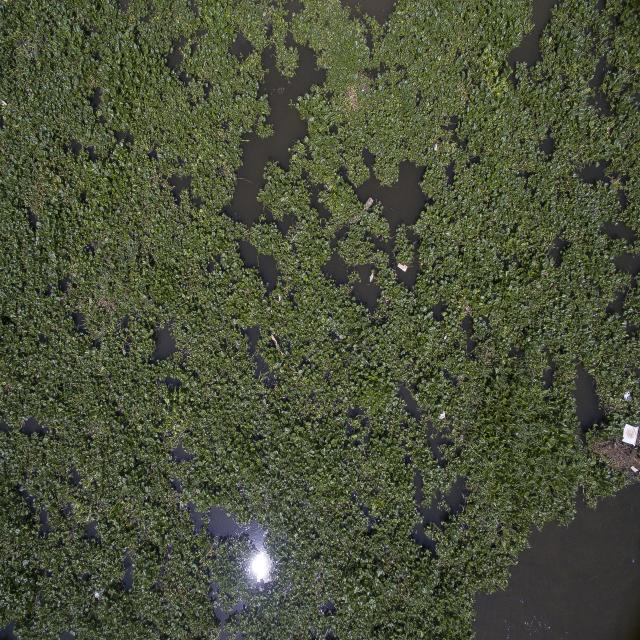plastic: (619, 419, 640, 451), (360, 192, 379, 215), (436, 405, 450, 430), (622, 386, 637, 409), (366, 265, 378, 290), (398, 256, 410, 276), (631, 461, 640, 476)
